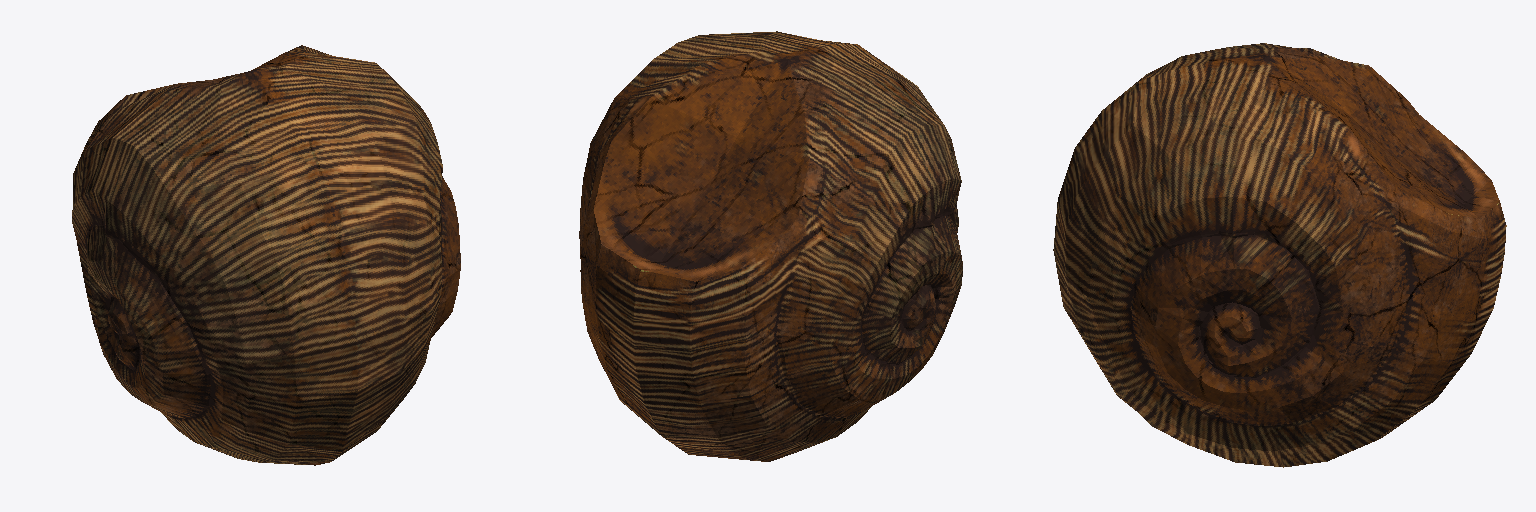
3 views of the same model, side by side, from view 1: azimuth 30°, elevation 25°; view 2: azimuth 150°, elevation 25°; view 3: azimuth 270°, elevation 25° (orthographic).
Visible parts, largest first — view 1: dynamic; view 2: dynamic; view 3: dynamic.
Part boxes in pixels (left/top/right/bottom): dynamic: left=72, top=45, right=460, bottom=465; dynamic: left=579, top=31, right=962, bottom=461; dynamic: left=1053, top=43, right=1506, bottom=467.
Bounding box in the file's own units: 1.87 × 2.14 × 2.27.
Materials: 1 (1 with a texture image).